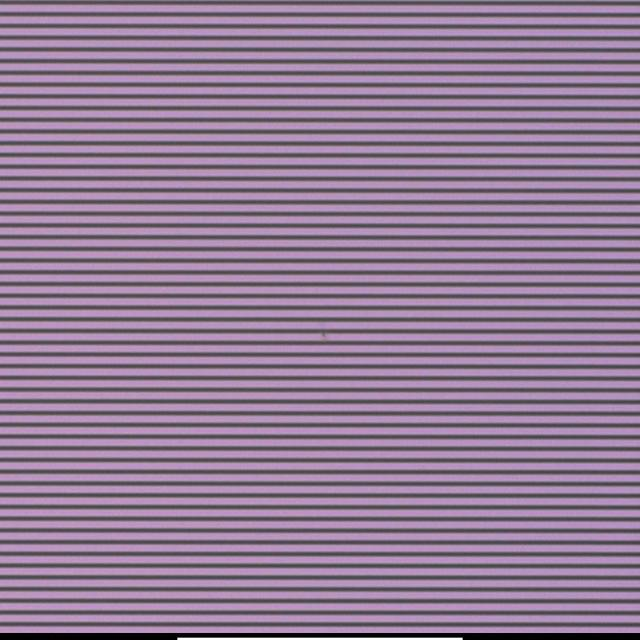nonvisual: (320, 327, 329, 342)
